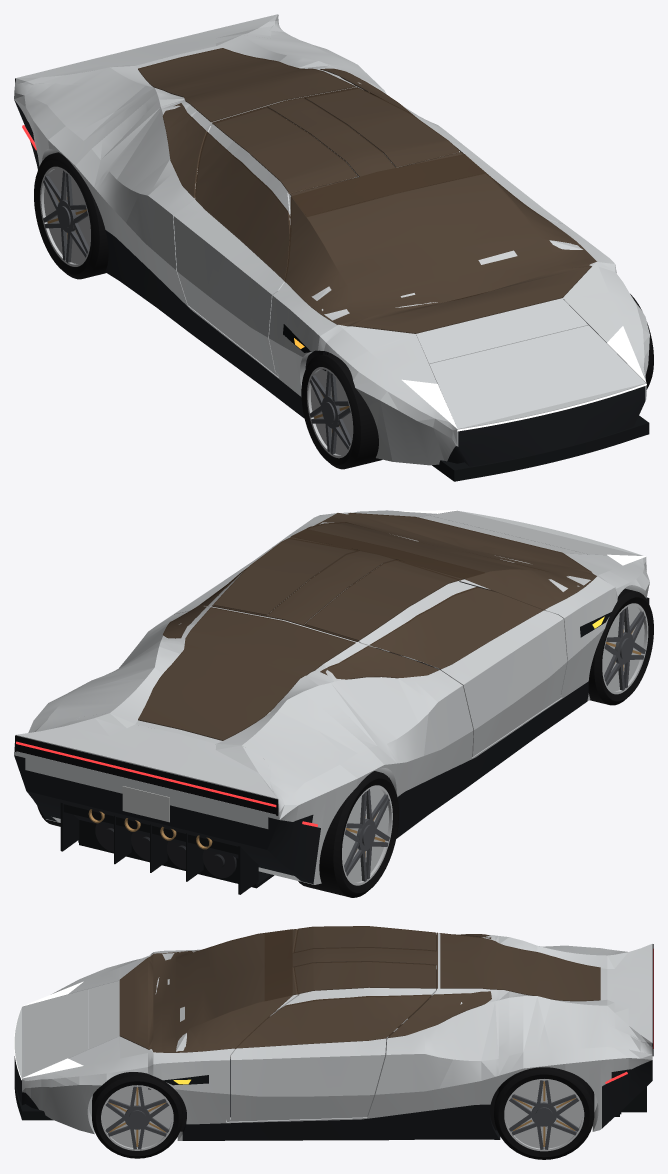
Rendered from roadster.glb.
The picture shows the model from 3 angles, top to bottom: view 1: azimuth 30°, elevation 25°; view 2: azimuth 150°, elevation 25°; view 3: azimuth 270°, elevation 25°; orthographic projection. The views are drawn at different scales.
Visible parts, largest first — view 1: body, glass_ws, door_glass_r, door_r.001, glass_rear, nose_face, glass_roof, door_glass_l, sill, wing.001, tyre_fr, glass_side (+8 smaller); view 2: body, glass_rear, door_glass_r, glass_ws, door_r.001, black_rear_corner, wing.001, rear_lower, door_glass_l, sill, glass_roof, light_rear_band (+11 smaller); view 3: body, glass_ws, door_l.001, door_glass_l, glass_rear, sill, wing.001, glass_roof, tyre_rl, door_glass_r, rim_rl, tyre_fl (+10 smaller).
Part boxes in pixels (x1,y1,x2,y2): body: (14,20,649,465); glass_ws: (284,154,596,333); door_glass_r: (195,107,357,281); door_r.001: (173,124,290,376); glass_rear: (138,48,355,122); nose_face: (447,386,645,466); glass_roof: (212,87,484,216); door_glass_l: (305,88,463,167); sill: (105,230,304,418); wing.001: (15,14,278,85); tyre_fr: (301,353,382,469); glass_side: (162,68,416,198); body: (14,510,649,884); glass_rear: (138,607,355,740); door_glass_r: (305,559,543,669); glass_ws: (291,512,596,610); door_r.001: (358,581,567,756); black_rear_corner: (14,755,320,883); wing.001: (15,713,278,804); rear_lower: (60,803,274,894); door_glass_l: (197,538,357,615); sill: (376,648,588,838); glass_roof: (212,529,484,641); light_rear_band: (15,735,278,815); body: (14,933,652,1140); glass_ws: (119,929,292,1052); door_l.001: (226,987,435,1121); door_glass_l: (236,961,435,1048); glass_rear: (440,933,600,1001); sill: (182,1058,500,1140); wing.001: (607,943,652,1048); glass_roof: (264,929,437,1000); tyre_rl: (494,1067,594,1159); door_glass_r: (293,926,435,952); rim_rl: (504,1079,584,1151); tyre_fl: (92,1072,182,1158).
Size of the model in its own units: 2 by 1.19 by 4.6.
